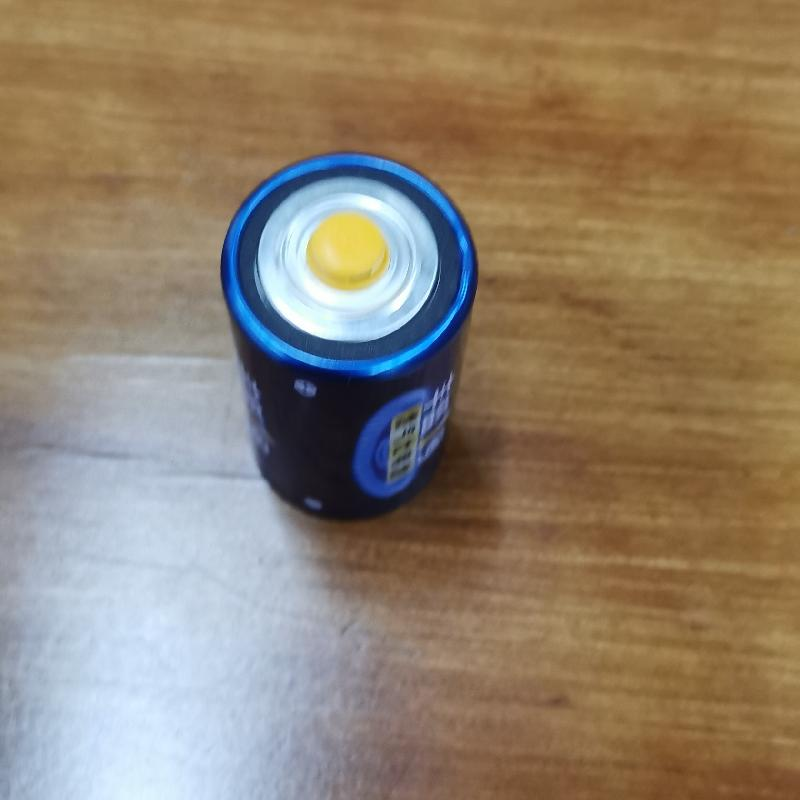battery: (214, 149, 485, 529)
